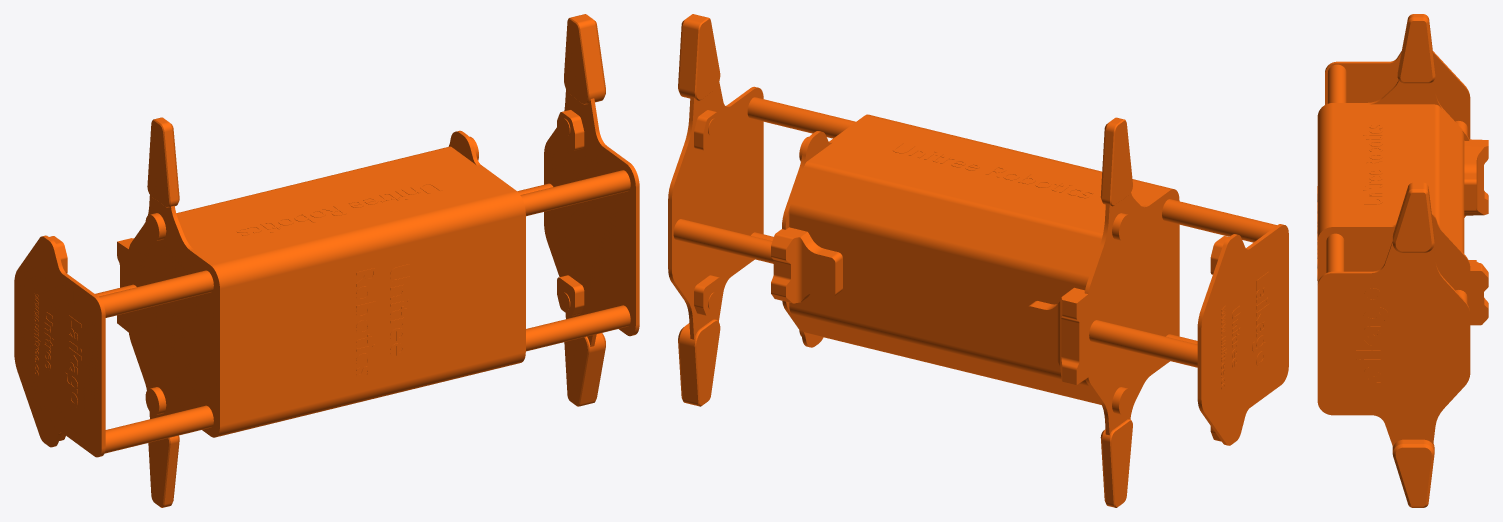
The model's file is trunk.obj.
The picture shows the model from 3 angles, left to right: view 1: azimuth 30°, elevation 25°; view 2: azimuth 150°, elevation 25°; view 3: azimuth 270°, elevation 25°; orthographic projection. The views are drawn at different scales.
Parts seen in each view (by area): view 1: stitch_result_stitchFBXASC032allMesh; view 2: stitch_result_stitchFBXASC032allMesh; view 3: stitch_result_stitchFBXASC032allMesh.
Part boxes in pixels (x1,y1,x2,y2): stitch_result_stitchFBXASC032allMesh: (14, 14, 639, 507); stitch_result_stitchFBXASC032allMesh: (668, 14, 1288, 507); stitch_result_stitchFBXASC032allMesh: (1317, 14, 1488, 507).
Size of the model in its own units: 0.5759 by 0.386 by 0.1878.
